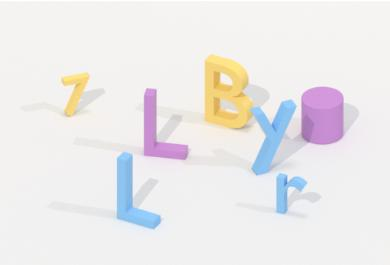7: (55, 67, 94, 119)
B: (202, 49, 255, 131)
L: (138, 84, 193, 165), (113, 149, 162, 233)
r: (272, 170, 308, 218)
y: (247, 97, 297, 175)
